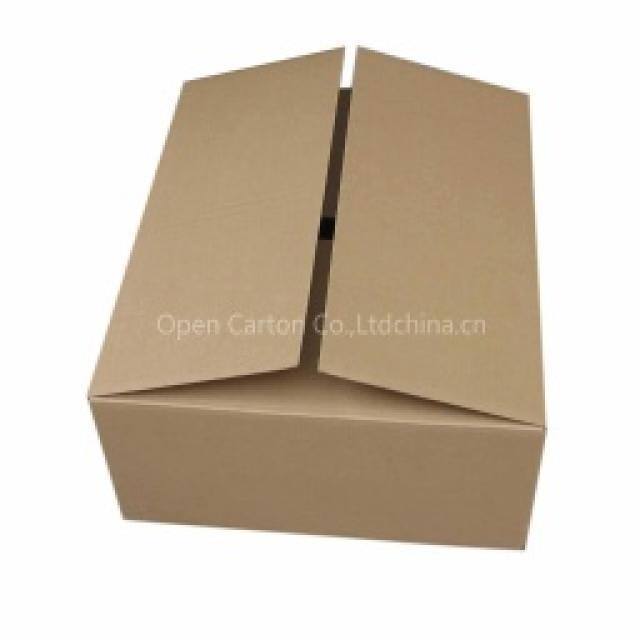box: (88, 47, 570, 576)
